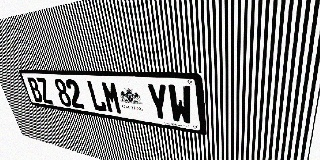2: (64, 79, 85, 109)
8: (53, 78, 73, 107)
B: (26, 77, 44, 103)
L: (86, 80, 108, 112)
M: (100, 81, 123, 115)
W: (167, 84, 194, 125)
Y: (146, 83, 171, 122)
Z: (35, 78, 54, 104)
